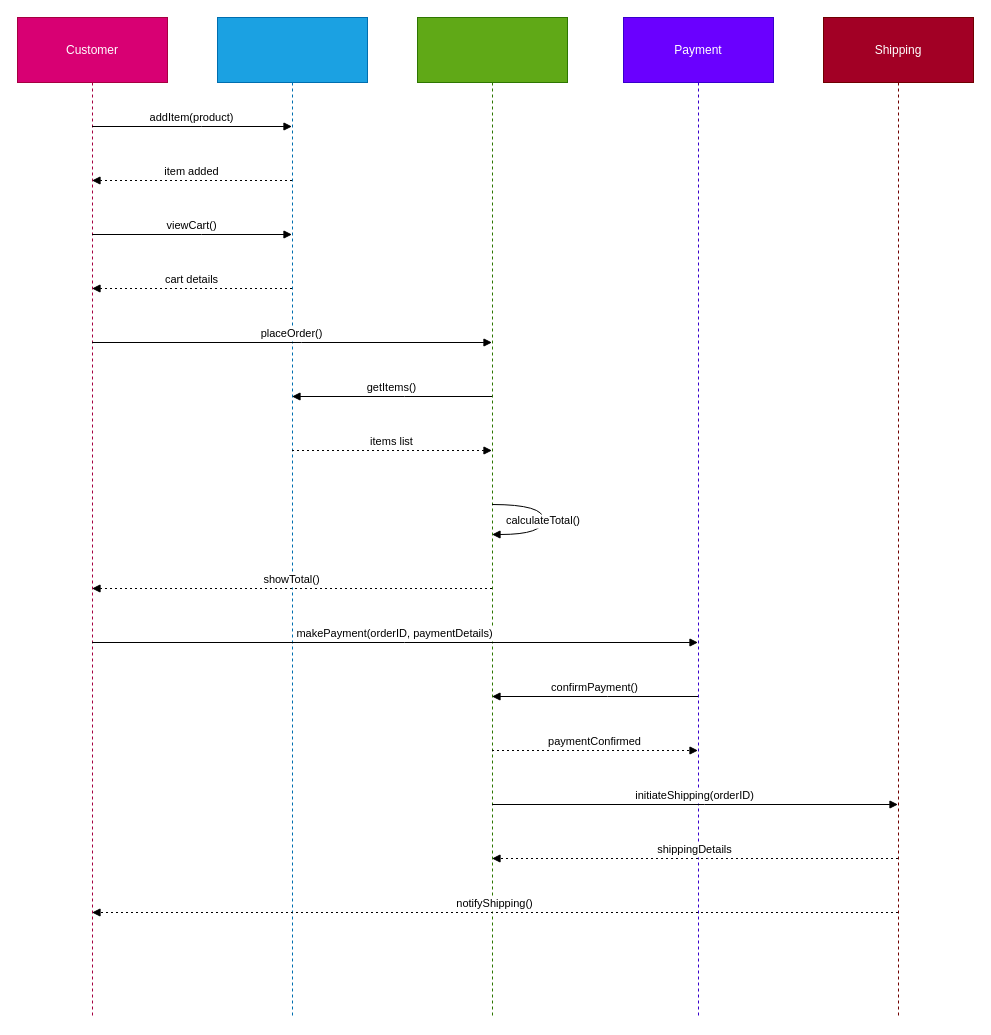
Image size: 991x1035. Some labels were removed from this diagram. Each missing label, with the box of its shape:
Order: (416, 16, 568, 1018)
ShoppingCart: (216, 16, 368, 1018)
